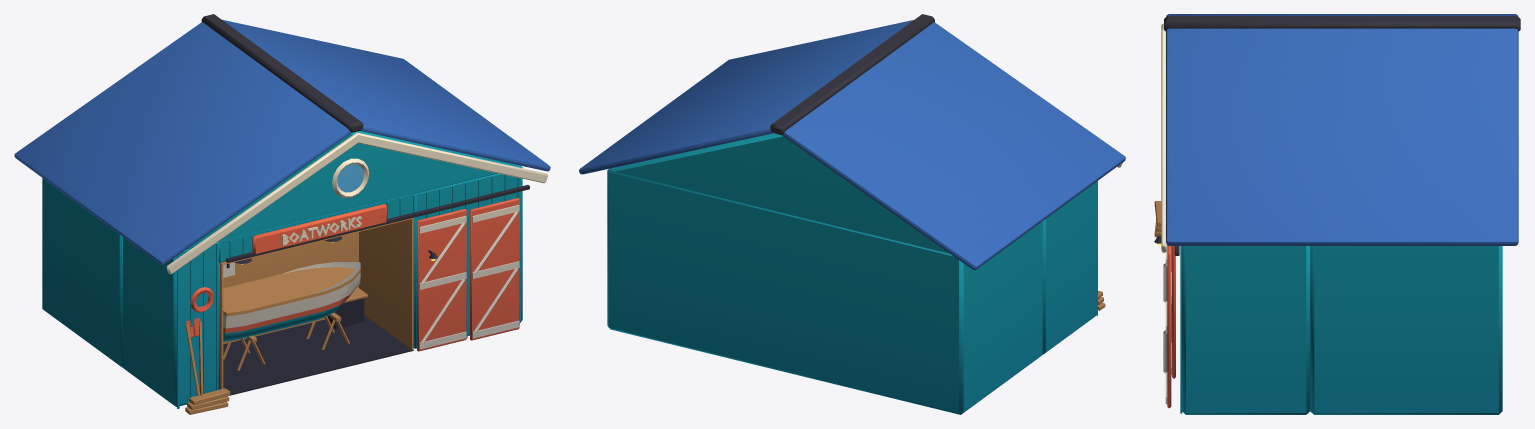
The model's file is workshop.glb.
3 renders of one model, left to right at view 1: azimuth 30°, elevation 25°; view 2: azimuth 150°, elevation 25°; view 3: azimuth 270°, elevation 25°, orthographic. The views are drawn at different scales.
Visible parts, largest first — view 1: workshop; view 2: workshop; view 3: workshop.
Part boxes in pixels (bbox=[...]): workshop: bbox=[14, 14, 550, 414]; workshop: bbox=[579, 14, 1125, 414]; workshop: bbox=[1154, 14, 1520, 414].
Bounding box in the file's own units: 13.4 × 8.17 × 9.14.
